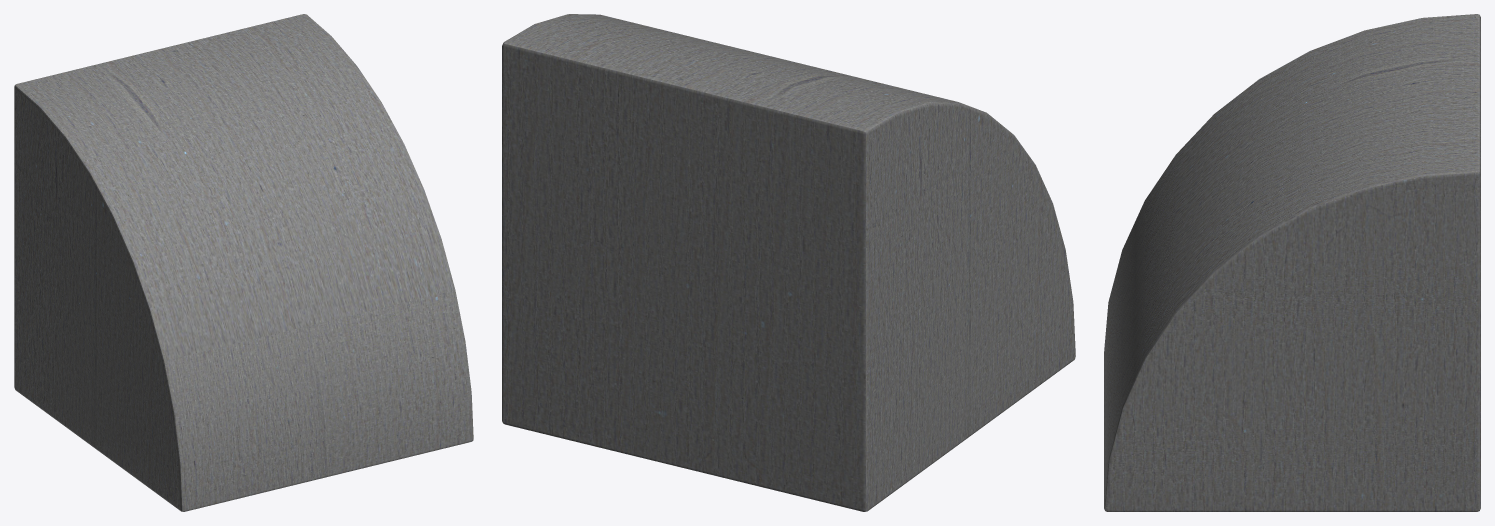
File: Quarter Cylinder UVed OBJ.obj
The picture shows the model from 3 angles, left to right: view 1: azimuth 30°, elevation 25°; view 2: azimuth 150°, elevation 25°; view 3: azimuth 270°, elevation 25°; orthographic projection. The views are drawn at different scales.
Visible parts, largest first — view 1: Block4QUARTERCYLINDER_pCylinder1; view 2: Block4QUARTERCYLINDER_pCylinder1; view 3: Block4QUARTERCYLINDER_pCylinder1.
Boxes of the visible parts, x1=… form: Block4QUARTERCYLINDER_pCylinder1: x1=14, y1=14, x2=473, y2=511; Block4QUARTERCYLINDER_pCylinder1: x1=502, y1=14, x2=1075, y2=511; Block4QUARTERCYLINDER_pCylinder1: x1=1104, y1=14, x2=1480, y2=511.
Size of the model in its own units: 95.08 by 95.01 by 95.01.
1 material, 1 textured.
